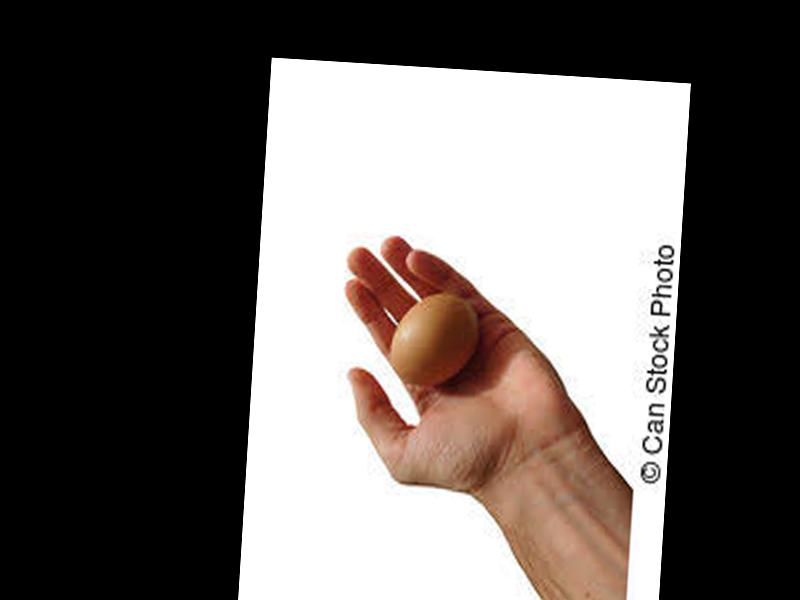Eggs: (392, 289, 479, 385)
